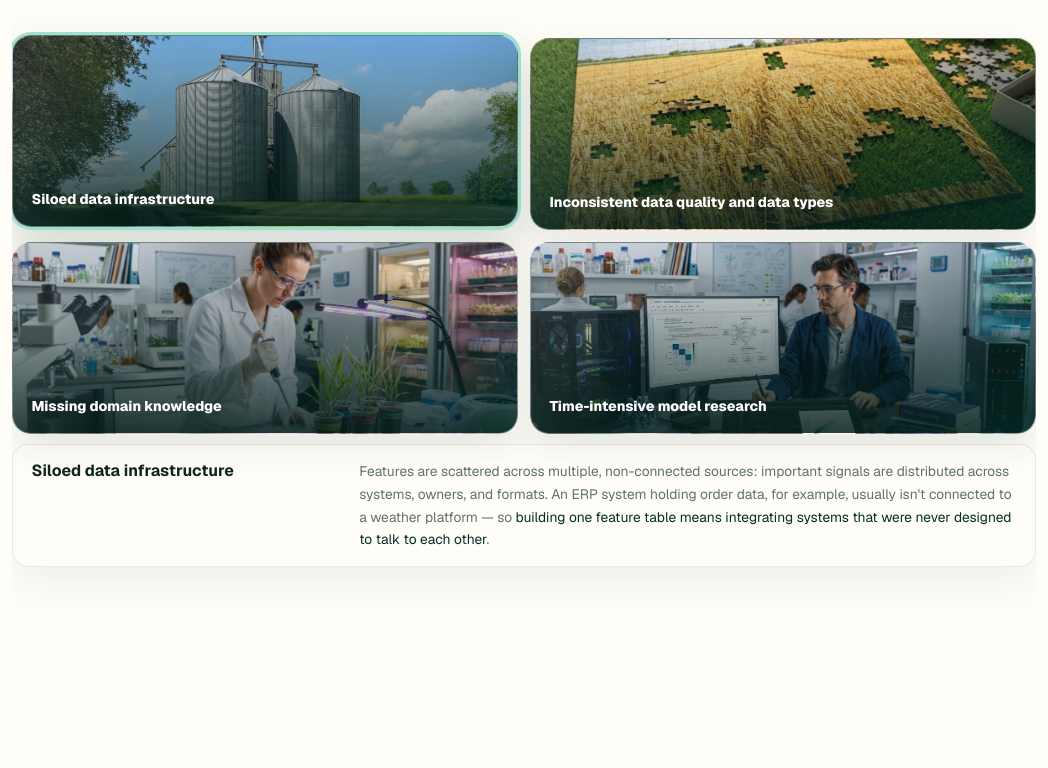
Scenario: story explorers › explains a selected forecasting challenge
Check: the text "distributed across systems, owners, and formats" is shown, box [359,462,1012,526]
Click the button "Inconsistent data quality and data types" at {"x": 691, "y": 202}, box [530,38,1036,230]
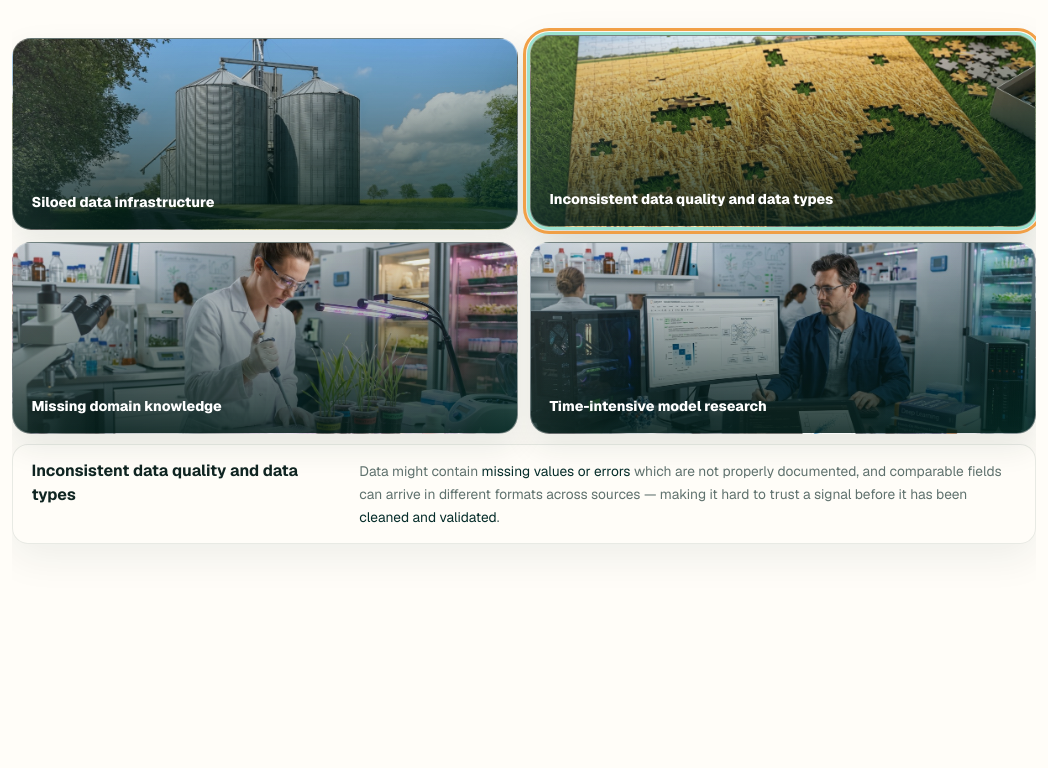
Check: the text "missing values or errors" is shown, box [482,462,630,480]
